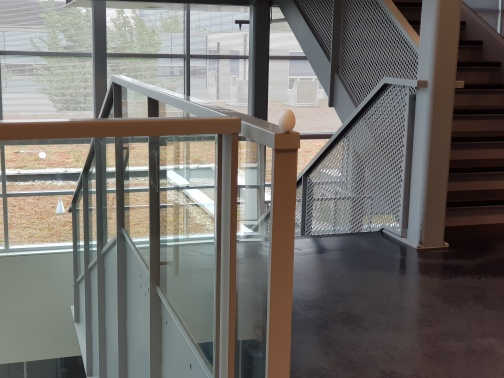egg: (277, 108, 298, 134)
